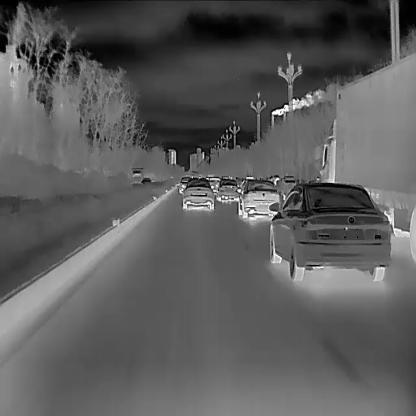car: (314, 50, 415, 263), (269, 182, 391, 282), (238, 178, 280, 219), (182, 178, 214, 210), (213, 178, 238, 200), (131, 168, 142, 185)
